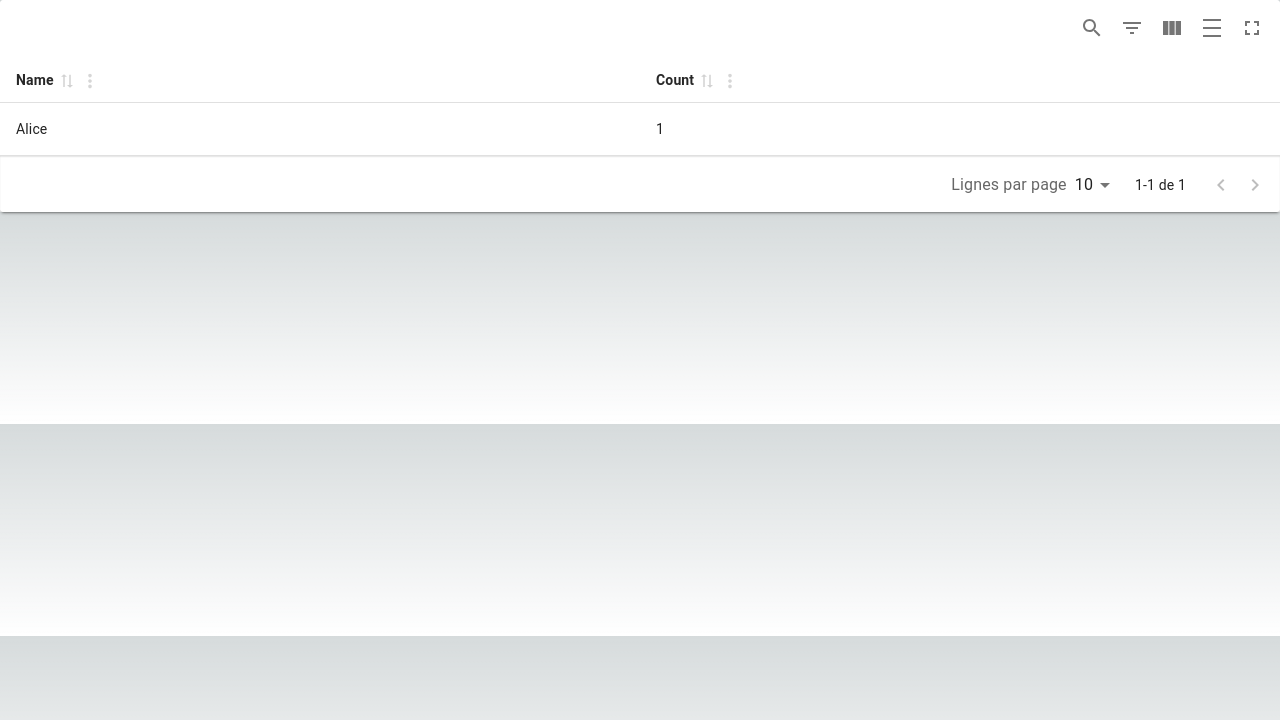
Test: alphabeticalSortColumn › uses alphabetical labels in the column actions menu of a text column
Click the button named "Actions de colonne" next to "Name": {"x": 90, "y": 81} [74, 65, 106, 97]
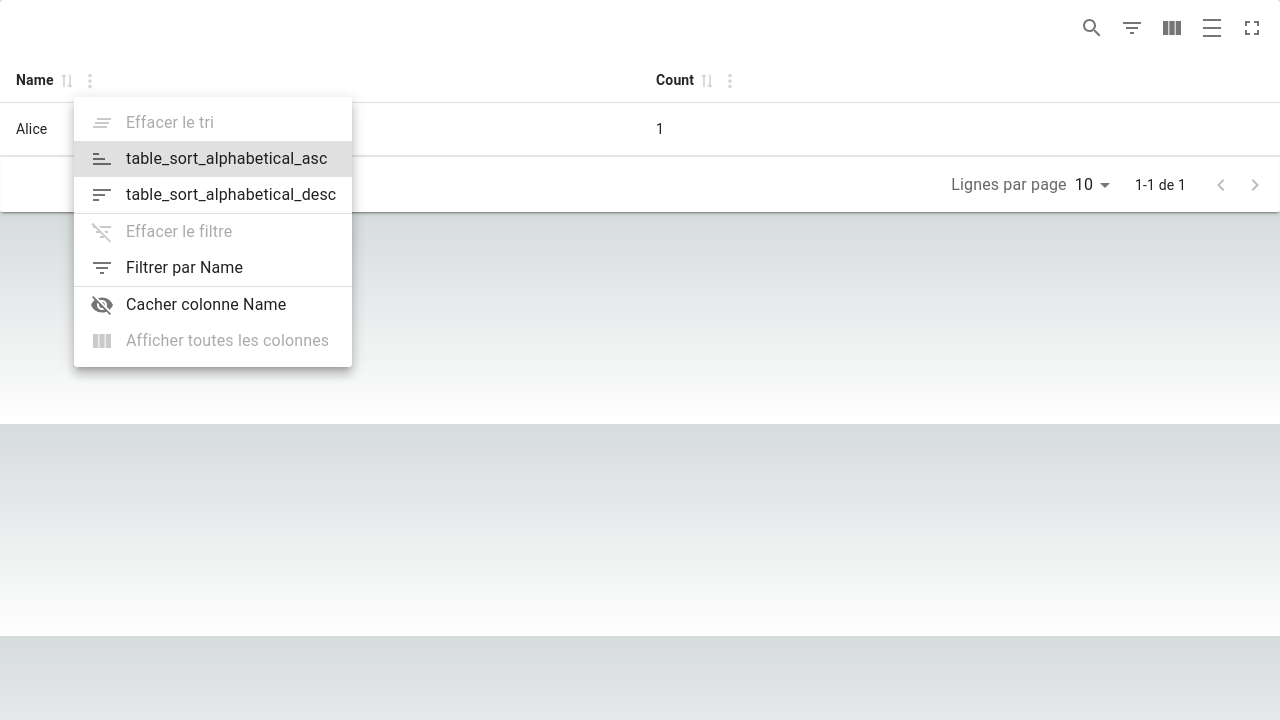
expect the menu item "table_sort_alphabetical_asc" is shown: met, box [74, 141, 352, 177]
expect the menu item "table_sort_alphabetical_desc" is shown: met, box [74, 177, 352, 214]
